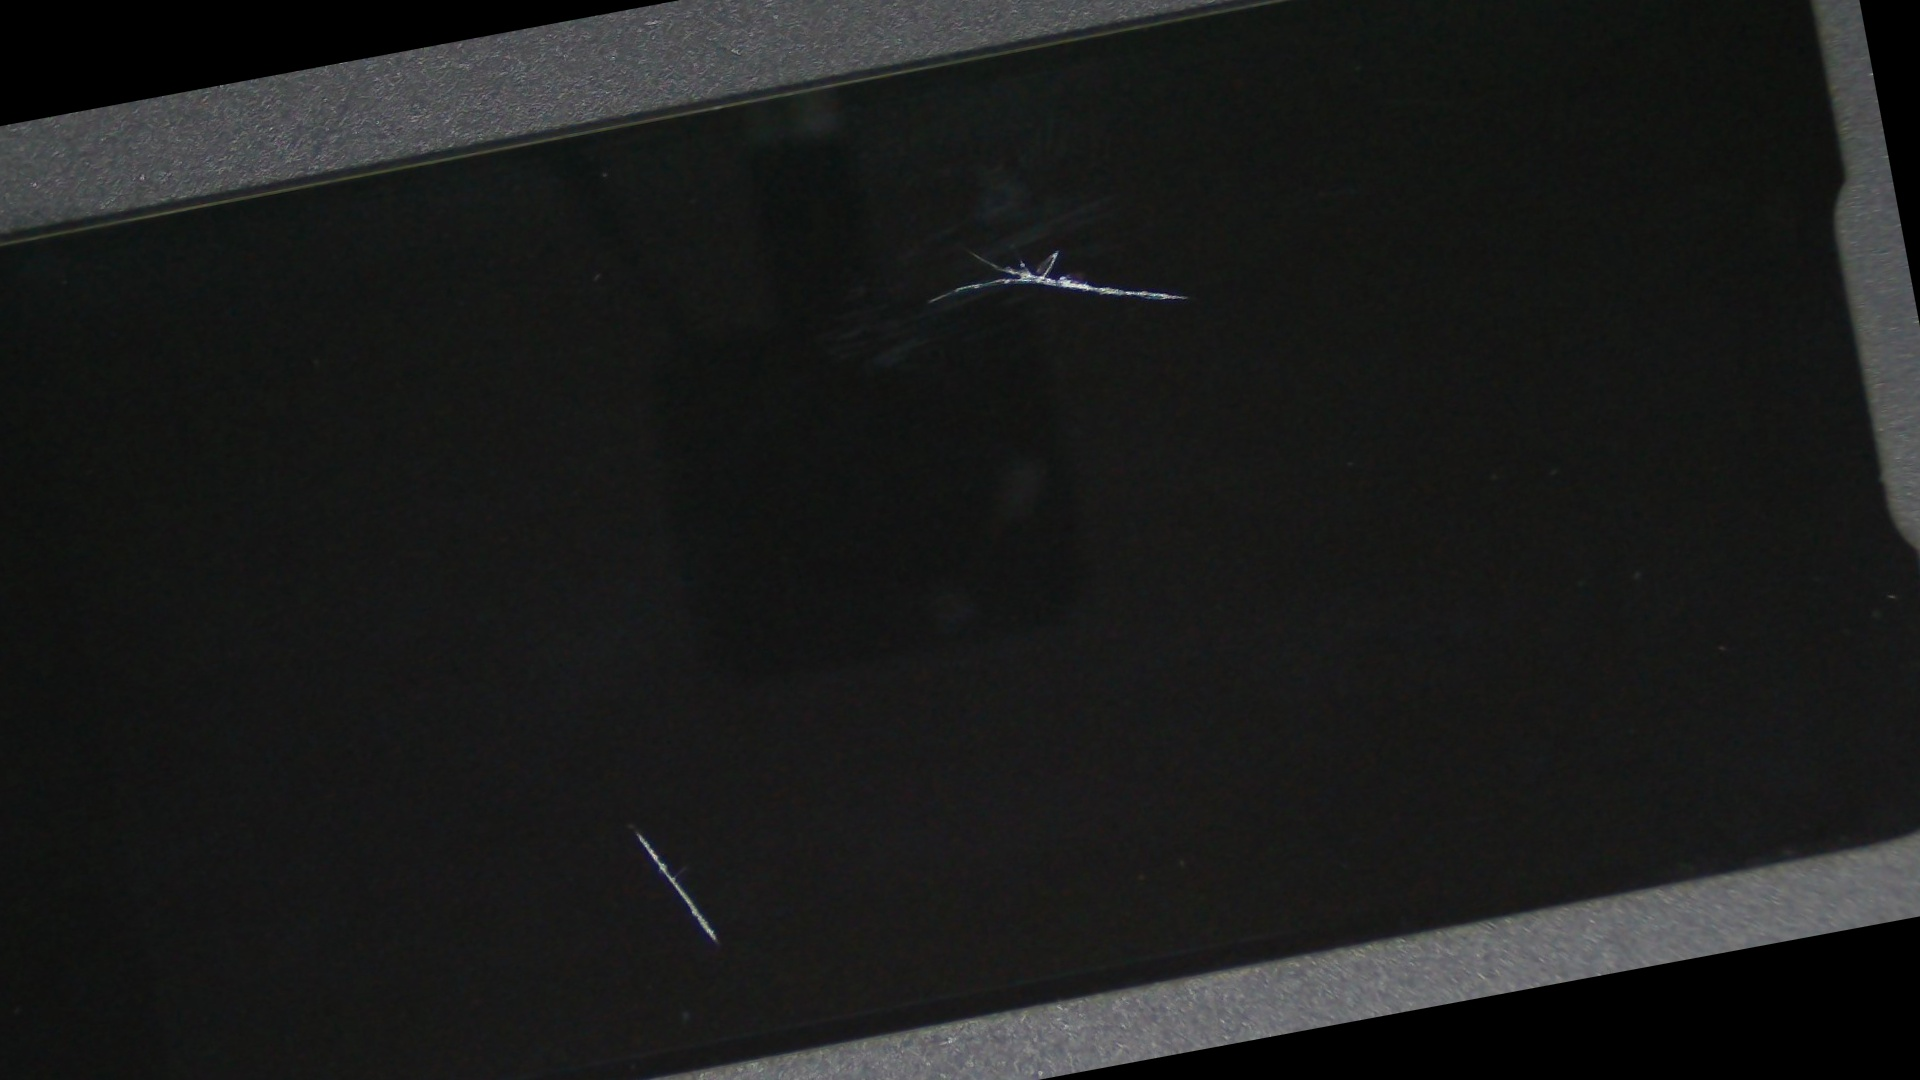oil: (174, 361, 1079, 1080), (344, 0, 1598, 509)
